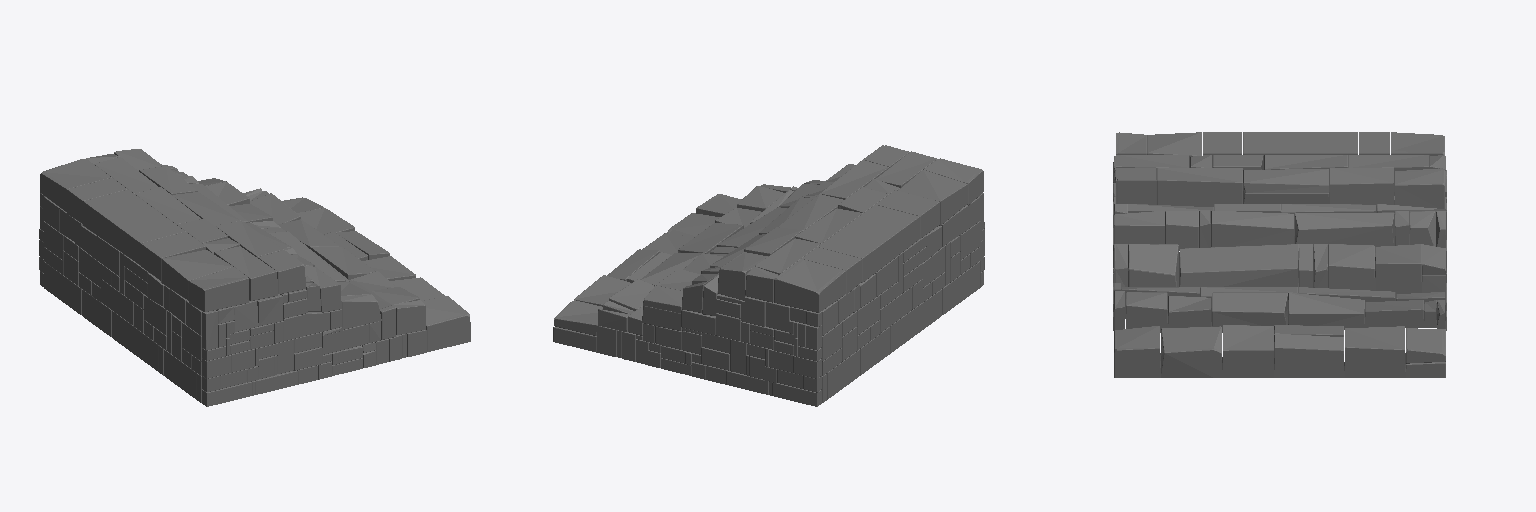
File: stairs.obj
3 views of the same model, side by side, from view 1: azimuth 30°, elevation 25°; view 2: azimuth 150°, elevation 25°; view 3: azimuth 270°, elevation 25° (orthographic).
Visible parts, largest first — view 1: stone_staircase_Mesh.006; view 2: stone_staircase_Mesh.006; view 3: stone_staircase_Mesh.006.
Boxes of the visible parts, <box> form: stone_staircase_Mesh.006: <box>39,149,470,406</box>; stone_staircase_Mesh.006: <box>553,145,984,406</box>; stone_staircase_Mesh.006: <box>1113,132,1446,377</box>.
Size of the model in its own units: 1.93 by 0.8225 by 2.09.